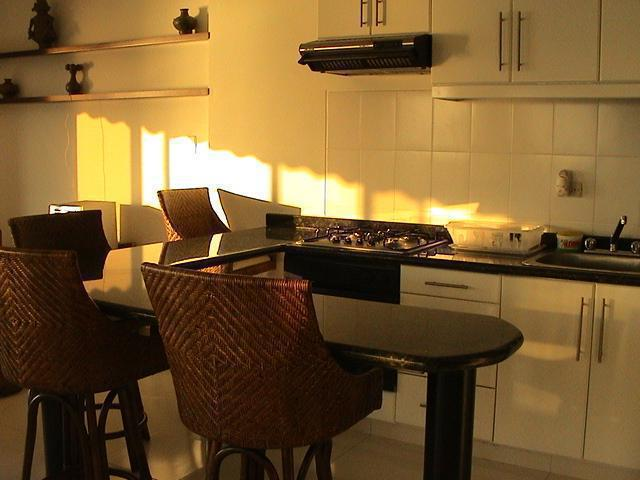Lavaplatos: (531, 223, 635, 283)
